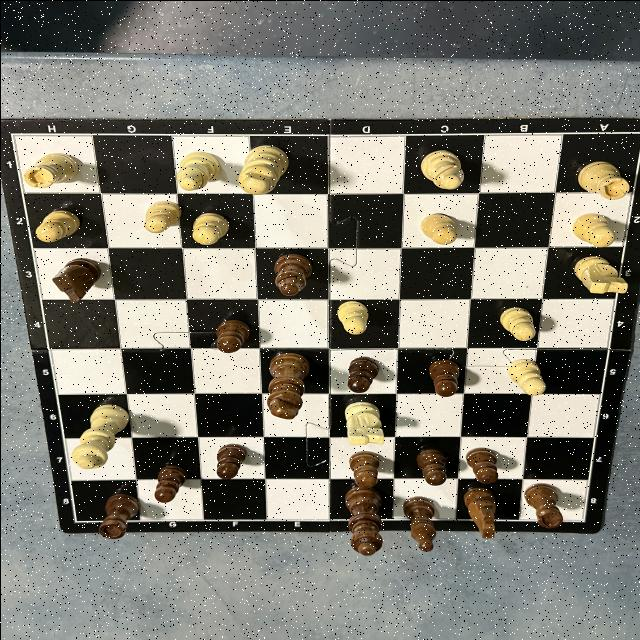Black-Bishop: (401, 496, 434, 552), (272, 252, 312, 296)
Black-King: (265, 352, 311, 419)
Black-Knight: (50, 258, 100, 302), (461, 486, 496, 538)
Black-Pawn: (214, 317, 250, 353), (154, 463, 186, 503), (464, 447, 498, 483), (345, 356, 379, 392), (347, 449, 379, 487), (414, 448, 446, 486), (428, 358, 460, 396), (216, 442, 246, 480)
Black-Queen: (342, 485, 383, 555)
Black-Rook: (96, 493, 140, 539), (522, 482, 563, 528)
White-Bishop: (418, 148, 464, 188), (175, 150, 219, 191)
White-King: (235, 142, 289, 192)
White-Knight: (572, 254, 628, 294), (343, 399, 384, 445)
White-Pawn: (506, 358, 546, 396), (570, 212, 614, 246), (34, 209, 80, 241), (498, 306, 534, 340), (418, 212, 456, 244), (190, 212, 228, 244), (143, 200, 181, 232), (336, 300, 368, 334)
White-Queen: (69, 404, 129, 469)
White-Rook: (576, 160, 630, 200), (21, 152, 77, 188)
